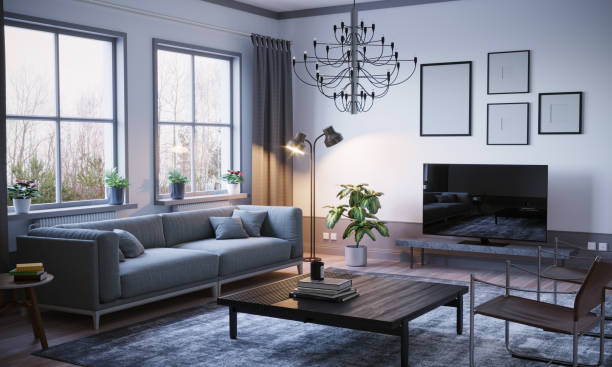TV: (420, 161, 551, 246)
TV stand: (394, 239, 577, 273)
chair: (465, 257, 612, 366), (536, 234, 612, 341)
floor lamp: (281, 123, 345, 261)
large plant: (326, 183, 390, 268)
side table: (0, 265, 57, 352)
small plant: (9, 177, 36, 213), (103, 167, 128, 204), (167, 169, 187, 200), (222, 168, 242, 195)
sofa: (13, 203, 305, 332)
table: (217, 267, 470, 366)
wall art: (418, 59, 473, 137), (484, 47, 532, 95), (484, 100, 531, 147), (536, 91, 583, 135)
